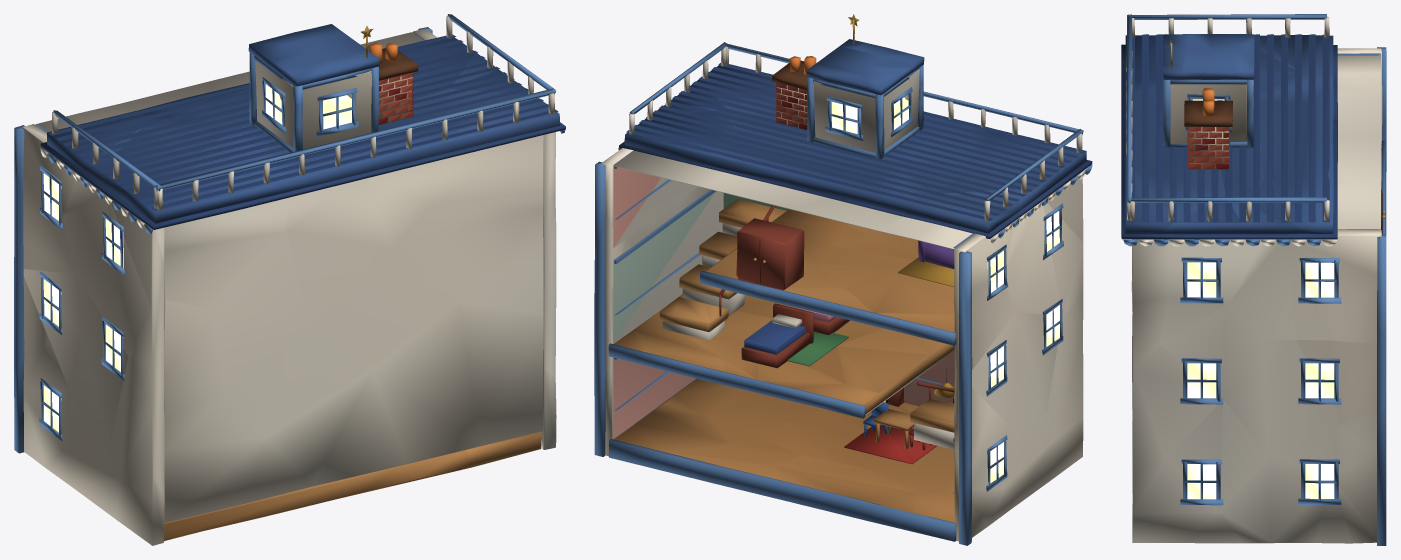
Rendered from den_dollhouse_lod2.glb.
The picture shows the model from 3 angles, left to right: view 1: azimuth 30°, elevation 25°; view 2: azimuth 150°, elevation 25°; view 3: azimuth 270°, elevation 25°; orthographic projection. The views are drawn at different scales.
Parts seen in each view (by area): view 1: den_dollhouse.001; view 2: den_dollhouse.001; view 3: den_dollhouse.001.
Part boxes in pixels (<box>): den_dollhouse.001: <box>14,14,565,545</box>; den_dollhouse.001: <box>594,14,1092,545</box>; den_dollhouse.001: <box>1121,14,1386,545</box>.
Bounding box in the file's own units: 32.8 × 34 × 19.09.
